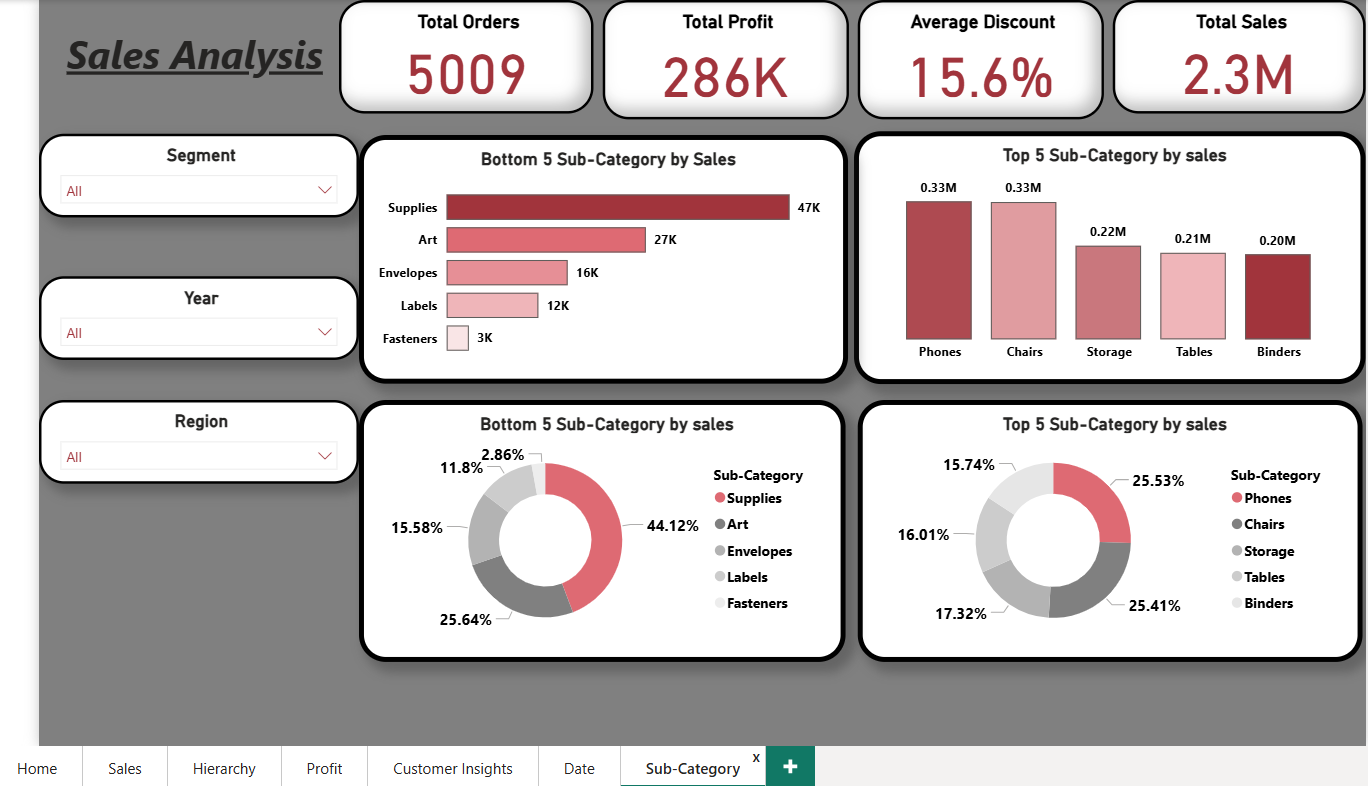

The dashboard page shown, as its layout file describes it:
{"tool":"powerbi","page":{"name":"Sub-Category","canvas":[1280,720],"ordinal":6},"visuals":[{"type":"card","title":"Total Orders","fields":{"Values":["DAXmeasure.T_order"]},"box":[289.5,0,245.6,109.8],"z":0},{"type":"card","title":"Total Profit","fields":{"Values":["DAXmeasure.T_profit"]},"box":[543.8,0,237.4,115.3],"z":1},{"type":"card","title":"Average Discount","fields":{"Values":["DAXmeasure.AVG_discount"]},"box":[789.8,0,237.4,115.3],"z":2},{"type":"card","title":"Total Sales","fields":{"Values":["DAXmeasure.T_sales"]},"box":[1035.7,0,244.3,109.8],"z":3},{"type":"textbox","box":[0,22,300.5,65.9],"z":4},{"type":"slicer","title":"Segment","fields":{"Values":["CustomerDim.Segment"]},"box":[0,129,308.7,81],"z":5},{"type":"slicer","title":"Year","fields":{"Values":["DateDim.Order Date.Variation.Date Hierarchy.Quarter"]},"box":[0,266.2,308.7,81],"z":6},{"type":"slicer","title":"Region","fields":{"Values":["CustomerDim.Region"]},"box":[0,385.6,308.7,81],"z":7},{"type":"columnChart","title":"Top 5 Sub-Category by sales","fields":{"Category":["ProductDim.Sub-Category"],"Y":["DAXmeasure.T_sales"]},"box":[786.3,126.2,494,244.3],"z":8},{"type":"barChart","title":"Bottom 5 Sub-Category by Sales","fields":{"Category":["ProductDim.Sub-Category"],"Y":["DAXmeasure.T_sales"]},"box":[308.7,130.4,472,240.1],"z":9},{"type":"donutChart","title":"Top 5 Sub-Category by sales","fields":{"Y":["DAXmeasure.T_sales"],"Category":["ProductDim.Sub-Category"]},"box":[790.4,385.6,487.1,252.5],"z":10},{"type":"donutChart","title":"Bottom 5 Sub-Category by sales","fields":{"Y":["DAXmeasure.T_sales"],"Category":["ProductDim.Sub-Category"]},"box":[308.7,385.6,469.3,252.5],"z":11}]}

Visuals, with their boxes in screenshot pixels (x1, y1, x2, y2):
"Total Orders" card: <bbox>344, 4, 594, 115</bbox>
"Total Profit" card: <bbox>603, 4, 844, 121</bbox>
"Average Discount" card: <bbox>853, 4, 1094, 121</bbox>
"Total Sales" card: <bbox>1103, 4, 1351, 115</bbox>
textbox: <bbox>50, 26, 355, 93</bbox>
"Segment" slicer: <bbox>50, 135, 364, 217</bbox>
"Year" slicer: <bbox>50, 274, 364, 357</bbox>
"Region" slicer: <bbox>50, 396, 364, 478</bbox>
"Top 5 Sub-Category by sales" columnChart: <bbox>849, 132, 1351, 380</bbox>
"Bottom 5 Sub-Category by Sales" barChart: <bbox>364, 136, 844, 380</bbox>
"Top 5 Sub-Category by sales" donutChart: <bbox>853, 396, 1349, 652</bbox>
"Bottom 5 Sub-Category by sales" donutChart: <bbox>364, 396, 841, 652</bbox>
